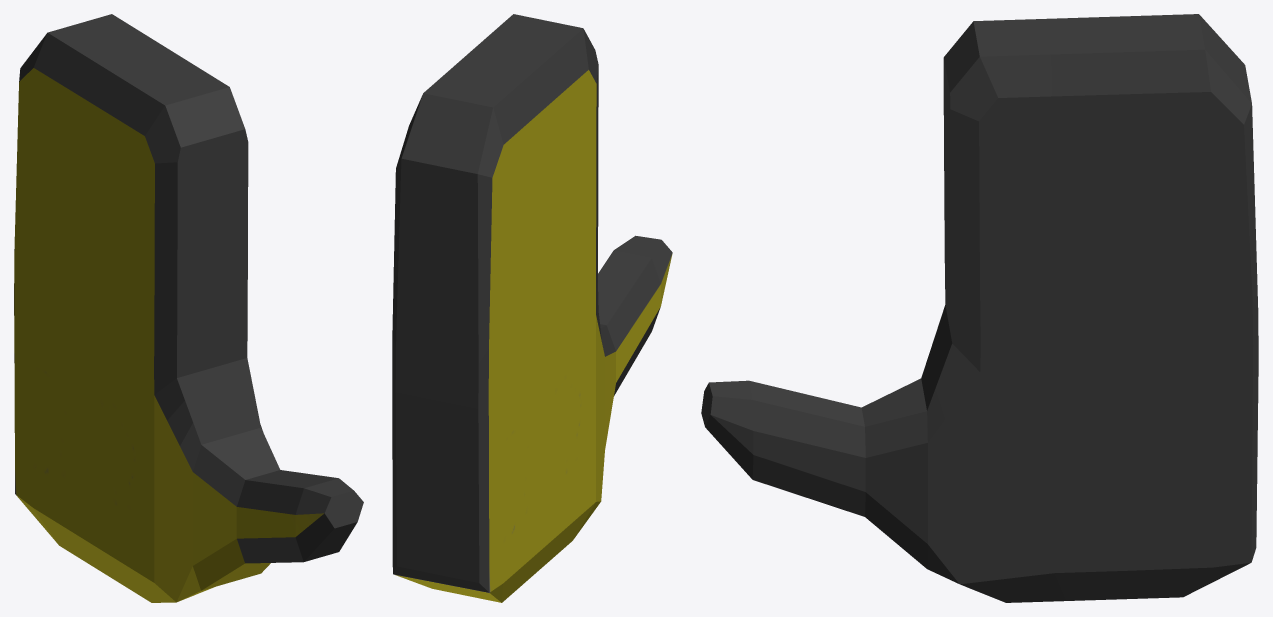
Rendered from handlinksfbx 1.fbx.
3 views of the same model, side by side, from view 1: azimuth 30°, elevation 25°; view 2: azimuth 150°, elevation 25°; view 3: azimuth 270°, elevation 25° (orthographic). The views are drawn at different scales.
Parts seen in each view (by area): view 1: Cube.001; view 2: Cube.001; view 3: Cube.001.
Boxes of the visible parts, x1=… form: Cube.001: x1=14, y1=14, x2=363, y2=602; Cube.001: x1=392, y1=14, x2=672, y2=602; Cube.001: x1=701, y1=14, x2=1258, y2=602.
Bounding box in the file's own units: 0.0921 × 0.4011 × 0.3704.
Materials: 1 (1 with a texture image).
